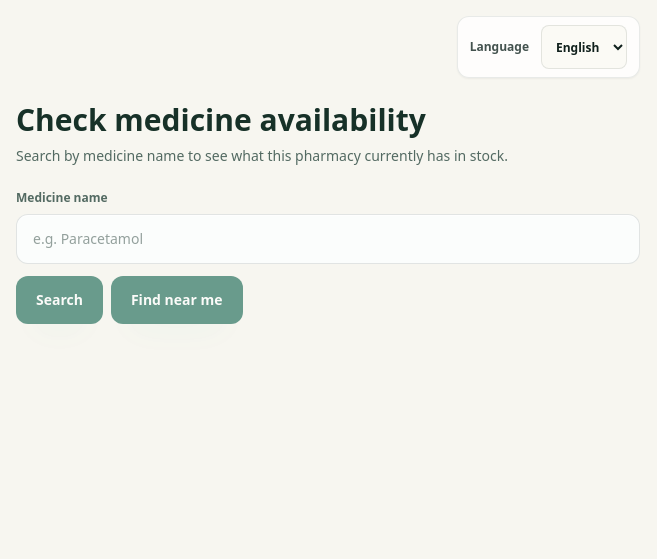
Scenario: PublicMedicineSearch › maps a backend failure to bounded localized copy without reflecting its message
Type "paracetamol" into the field labelled "Medicine name" at coordinates (328, 239), box [16,214,640,264]
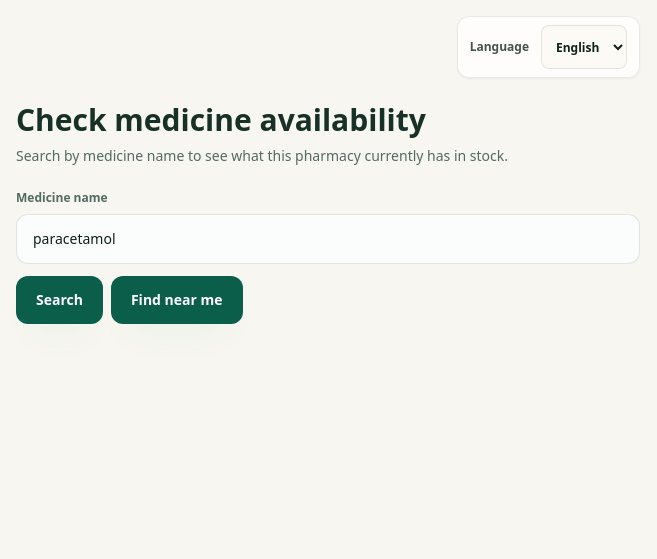
Click the button "Search" at coordinates (59, 300), box [16,276,103,324]
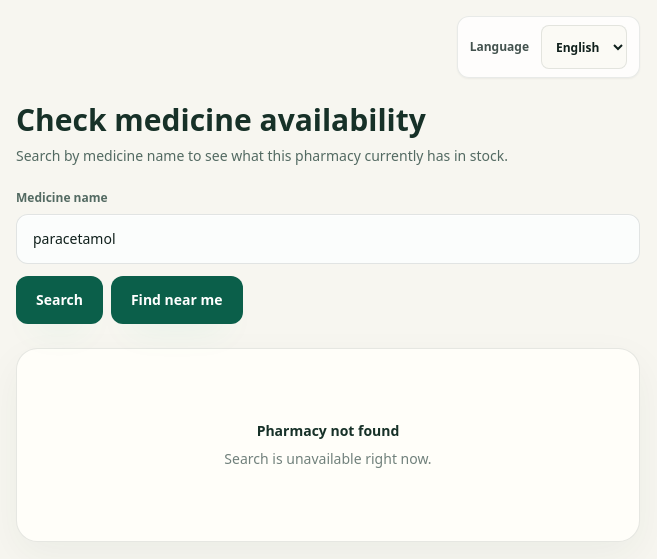
Check: the text "Pharmacy not found" is shown, box [257,421,399,441]
Check: the text "Search is unavailable right now." is shown, box [224,449,432,469]
